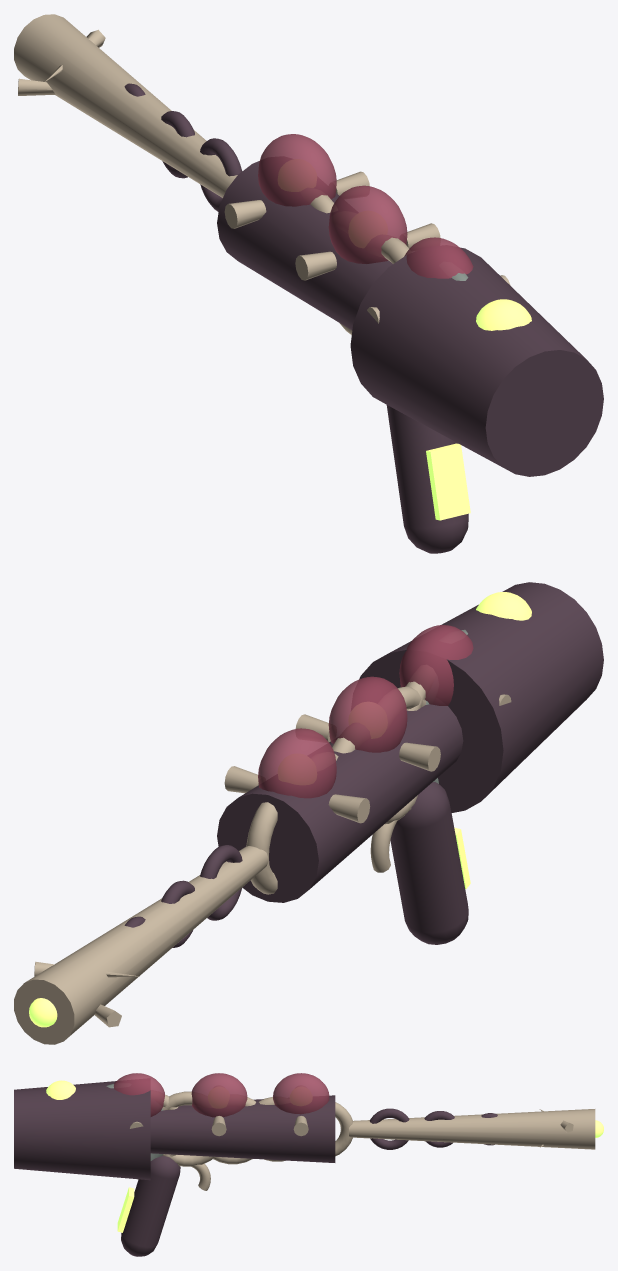
Rendered from grafted-brood-beam_emitter.glb.
3 renders of one model, top to bottom at view 1: azimuth 30°, elevation 25°; view 2: azimuth 150°, elevation 25°; view 3: azimuth 270°, elevation 25°, orthographic. The views are drawn at different scales.
Parts seen in each view (by area): view 1: socket_shell, needle_shaft, spine_shaft, grip_shaft, heat_sac_2, heat_sac_1, heat_readout, heat_sac_3, socket_nerve, needle_ring_1, vent_port_2_l, vent_port_1_l (+1 smaller); view 2: socket_shell, spine_shaft, needle_shaft, grip_shaft, heat_sac_2, heat_sac_1, heat_sac_3, spine, needle_ring_1, socket_nerve, vent_port_2_l, trigger_hook (+3 smaller); view 3: socket_shell, spine_shaft, needle_shaft, grip_shaft, heat_sac_2, spine, heat_sac_1, heat_sac_3, needle_ring_1, socket_nerve, heat_readout, needle_ring_2 (+1 smaller).
Boxes of the visible parts, x1=… form: socket_shell: x1=350, y1=247, x2=603, y2=476; needle_shaft: x1=14, y1=14, x2=237, y2=197; spine_shaft: x1=217, y1=161, x2=392, y2=330; grip_shaft: x1=386, y1=405, x2=468, y2=553; heat_sac_2: x1=328, y1=185, x2=407, y2=263; heat_sac_1: x1=258, y1=134, x2=336, y2=206; heat_readout: x1=426, y1=443, x2=470, y2=520; heat_sac_3: x1=404, y1=237, x2=473, y2=278; socket_nerve: x1=476, y1=299, x2=531, y2=330; needle_ring_1: x1=200, y1=138, x2=242, y2=211; vent_port_2_l: x1=295, y1=251, x2=336, y2=280; vent_port_1_l: x1=224, y1=200, x2=266, y2=228; socket_shell: x1=359, y1=582, x2=603, y2=813; spine_shaft: x1=217, y1=704, x2=463, y2=902; needle_shaft: x1=14, y1=846, x2=268, y2=1044; grip_shaft: x1=390, y1=782, x2=468, y2=944; heat_sac_2: x1=328, y1=676, x2=407, y2=752; heat_sac_1: x1=258, y1=728, x2=336, y2=798; heat_sac_3: x1=399, y1=625, x2=473, y2=705; spine: x1=246, y1=681, x2=426, y2=894; needle_ring_1: x1=200, y1=845, x2=242, y2=920; socket_nerve: x1=476, y1=592, x2=531, y2=620; vent_port_2_l: x1=399, y1=742, x2=440, y2=771; trigger_hook: x1=370, y1=808, x2=411, y2=872; socket_shell: x1=14, y1=1081, x2=150, y2=1180; spine_shaft: x1=150, y1=1095, x2=335, y2=1162; needle_shaft: x1=349, y1=1109, x2=595, y2=1149; grip_shaft: x1=121, y1=1155, x2=180, y2=1256; heat_sac_2: x1=191, y1=1073, x2=247, y2=1117; spine: x1=162, y1=1091, x2=353, y2=1166; heat_sac_1: x1=273, y1=1073, x2=329, y2=1114; heat_sac_3: x1=113, y1=1073, x2=164, y2=1116; needle_ring_1: x1=369, y1=1108, x2=409, y2=1149; socket_nerve: x1=46, y1=1080, x2=75, y2=1099; heat_readout: x1=117, y1=1187, x2=134, y2=1232; needle_ring_2: x1=424, y1=1111, x2=454, y2=1147.
Bounding box in the file's own units: 0.15 × 0.2911 × 0.8628.
